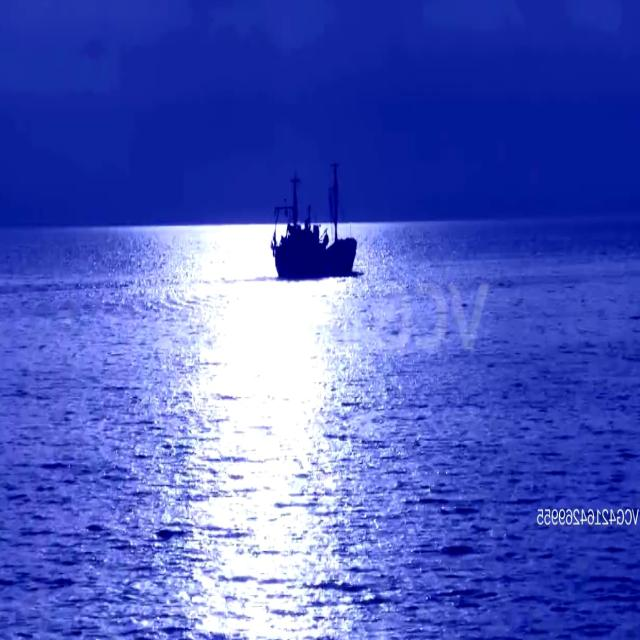houseboat: (270, 158, 358, 278)
